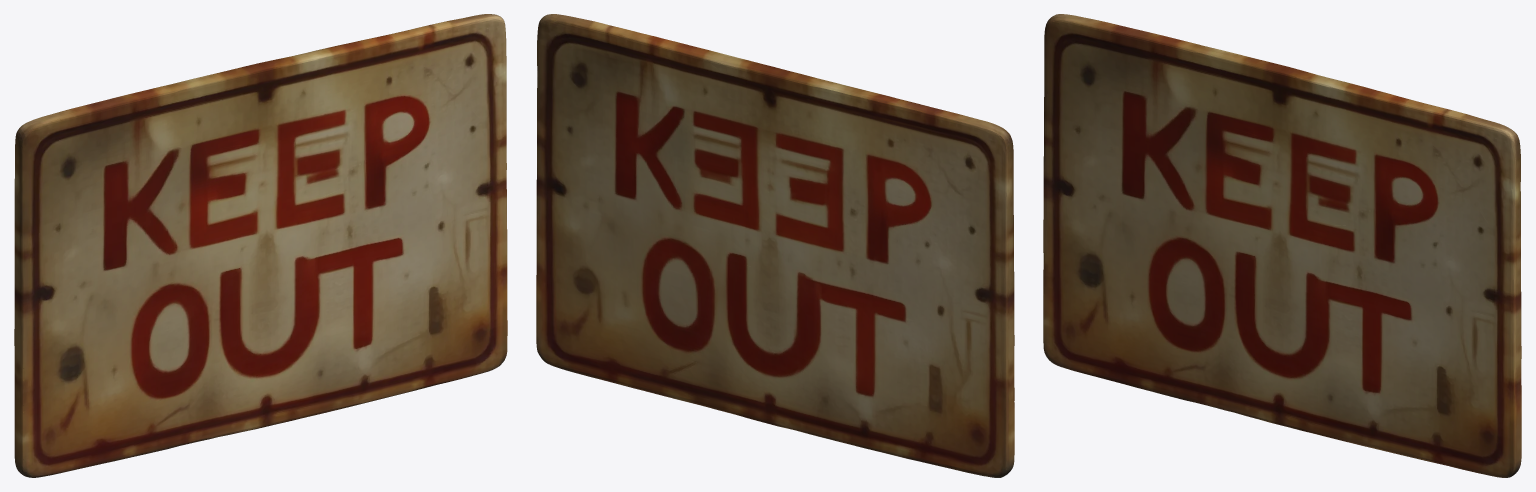
File: keep_out_sign.glb
3 renders of one model, left to right at view 1: azimuth 30°, elevation 25°; view 2: azimuth 150°, elevation 25°; view 3: azimuth 330°, elevation 25°, orthographic.
Parts seen in each view (by area): view 1: geometry_0; view 2: geometry_0; view 3: geometry_0.
Boxes of the visible parts, x1,y1,x2,y2 form: geometry_0: (14,14,507,477); geometry_0: (536,14,1014,477); geometry_0: (1043,14,1521,477).
Size of the model in its own units: 1 by 0.7142 by 0.0444.
1 material, 1 textured.
